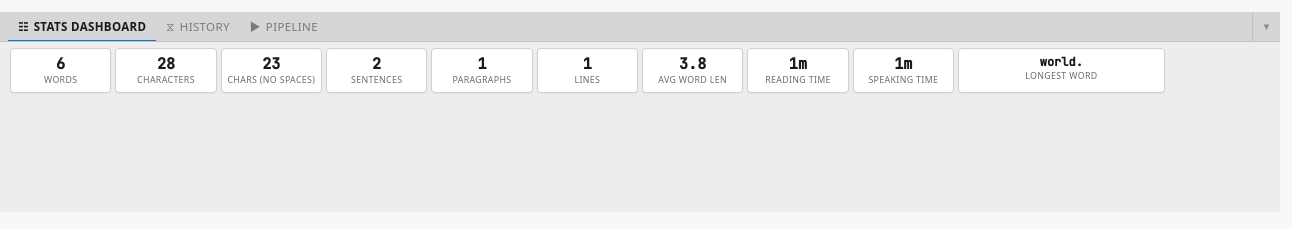
Test: BottomPanel › collapses and expands panel
Step 1. Click the button titled "Collapse panel" → (1266, 26), box [1252,12,1280,41]
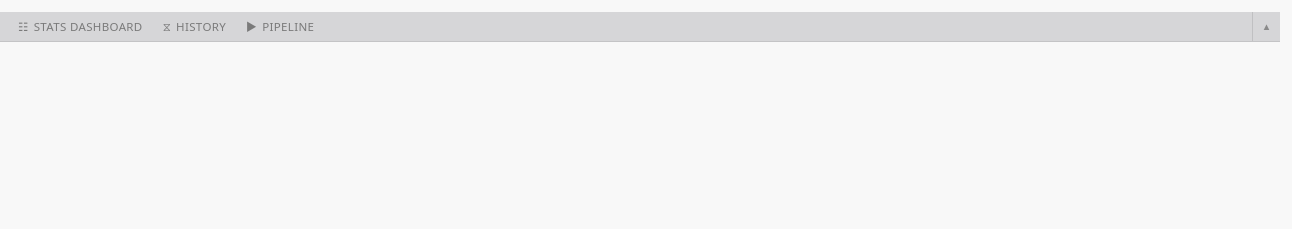
Expected: the text "Words" is gone
Step 2. Click the button titled "Expand panel" → (1266, 26), box [1252,12,1280,41]
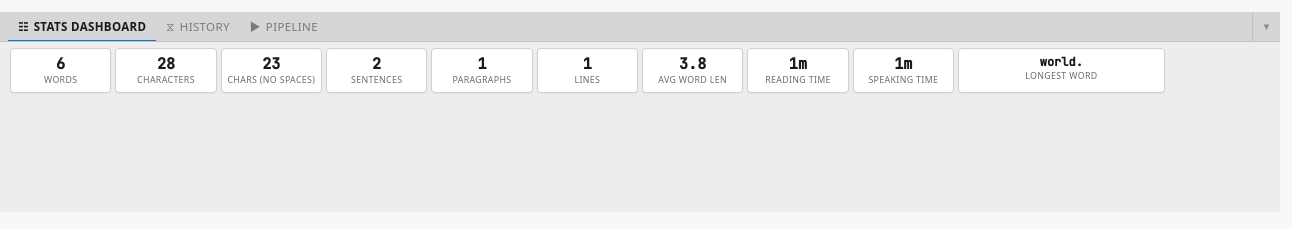
Expected: the text "Words" is shown, [44,74,77,86]
